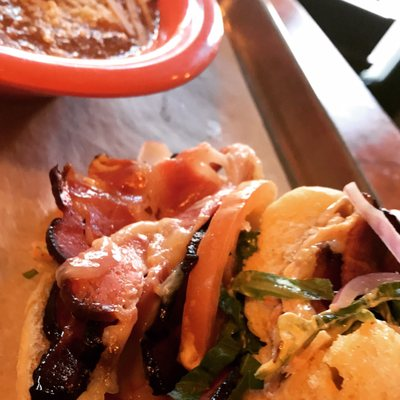sushi: (0, 0, 227, 100)
